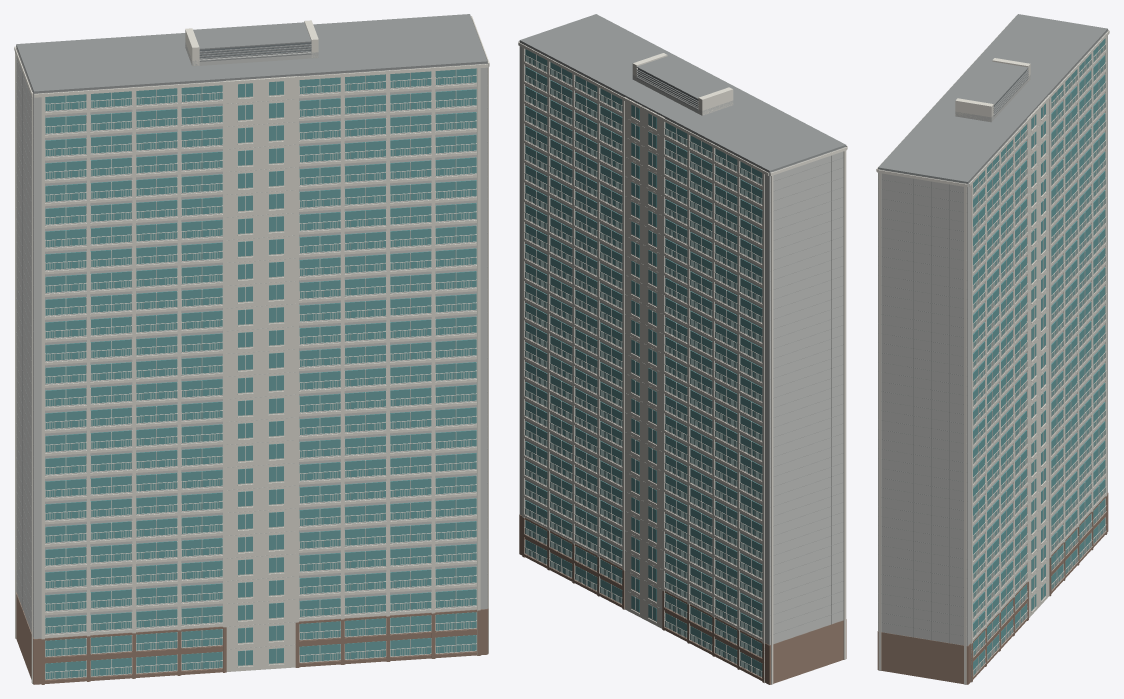
File: bespoke-jamsil-els-120.glb
The picture shows the model from 3 angles, left to right: view 1: azimuth 30°, elevation 25°; view 2: azimuth 150°, elevation 25°; view 3: azimuth 270°, elevation 25°; orthographic projection. The views are drawn at different scales.
Parts seen in each view (by area): view 1: Els120_editable_Els120_turquoise_balcony_glazing, Els120_editable_Els120_light_grey_solid_wall, Els120_white_exact_chunk_3, Els120_white_exact_chunk_5, Els120_white_exact_chunk_6, Els120_white_exact_chunk_4, Els120_editable_Els120_modest_grey_flat_roof_caps, Els120_editable_Els120_muted_ground_wall, Els120_editable_Els120_narrow_charcoal_service_strips; view 2: Els120_editable_Els120_turquoise_balcony_glazing, Els120_editable_Els120_light_grey_solid_wall, Els120_white_exact_chunk_0, Els120_white_exact_chunk_1, Els120_editable_Els120_modest_grey_flat_roof_caps, Els120_white_exact_chunk_3, Els120_white_exact_chunk_2, Els120_editable_Els120_muted_ground_wall, Els120_white_exact_chunk_6; view 3: Els120_editable_Els120_light_grey_solid_wall, Els120_editable_Els120_turquoise_balcony_glazing, Els120_editable_Els120_modest_grey_flat_roof_caps, Els120_white_exact_chunk_0, Els120_white_exact_chunk_1, Els120_white_exact_chunk_2, Els120_white_exact_chunk_3, Els120_editable_Els120_muted_ground_wall, Els120_white_exact_chunk_6.
Boxes of the visible parts, box(x1,y1,x2,y2) form: Els120_editable_Els120_turquoise_balcony_glazing: box(45, 68, 476, 679); Els120_editable_Els120_light_grey_solid_wall: box(16, 42, 487, 649); Els120_white_exact_chunk_3: box(14, 45, 296, 683); Els120_white_exact_chunk_5: box(41, 74, 431, 662); Els120_white_exact_chunk_6: box(34, 16, 489, 655); Els120_white_exact_chunk_4: box(90, 88, 222, 673); Els120_editable_Els120_modest_grey_flat_roof_caps: box(16, 14, 487, 631); Els120_editable_Els120_muted_ground_wall: box(16, 592, 488, 684); Els120_editable_Els120_narrow_charcoal_service_strips: box(199, 42, 311, 58); Els120_editable_Els120_turquoise_balcony_glazing: box(525, 49, 762, 676); Els120_editable_Els120_light_grey_solid_wall: box(519, 42, 845, 645); Els120_white_exact_chunk_0: box(524, 49, 664, 628); Els120_white_exact_chunk_1: box(522, 44, 687, 638); Els120_editable_Els120_modest_grey_flat_roof_caps: box(519, 14, 846, 643); Els120_white_exact_chunk_3: box(518, 42, 847, 684); Els120_white_exact_chunk_2: box(664, 122, 761, 677); Els120_editable_Els120_muted_ground_wall: box(519, 514, 846, 684); Els120_white_exact_chunk_6: box(518, 41, 847, 148); Els120_editable_Els120_light_grey_solid_wall: box(878, 30, 1107, 645); Els120_editable_Els120_turquoise_balcony_glazing: box(973, 38, 1105, 675); Els120_editable_Els120_modest_grey_flat_roof_caps: box(878, 14, 1107, 644); Els120_white_exact_chunk_0: box(973, 95, 1049, 676); Els120_white_exact_chunk_1: box(971, 119, 1064, 681); Els120_white_exact_chunk_2: box(1051, 53, 1106, 575); Els120_white_exact_chunk_3: box(969, 29, 1109, 595); Els120_editable_Els120_muted_ground_wall: box(877, 493, 1108, 684); Els120_white_exact_chunk_6: box(876, 16, 1030, 684).
Bounding box in the file's own units: 51.74 × 73.8 × 30.07.
